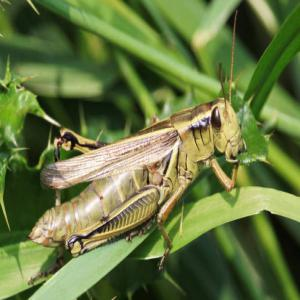locust: (41, 61, 251, 262)
